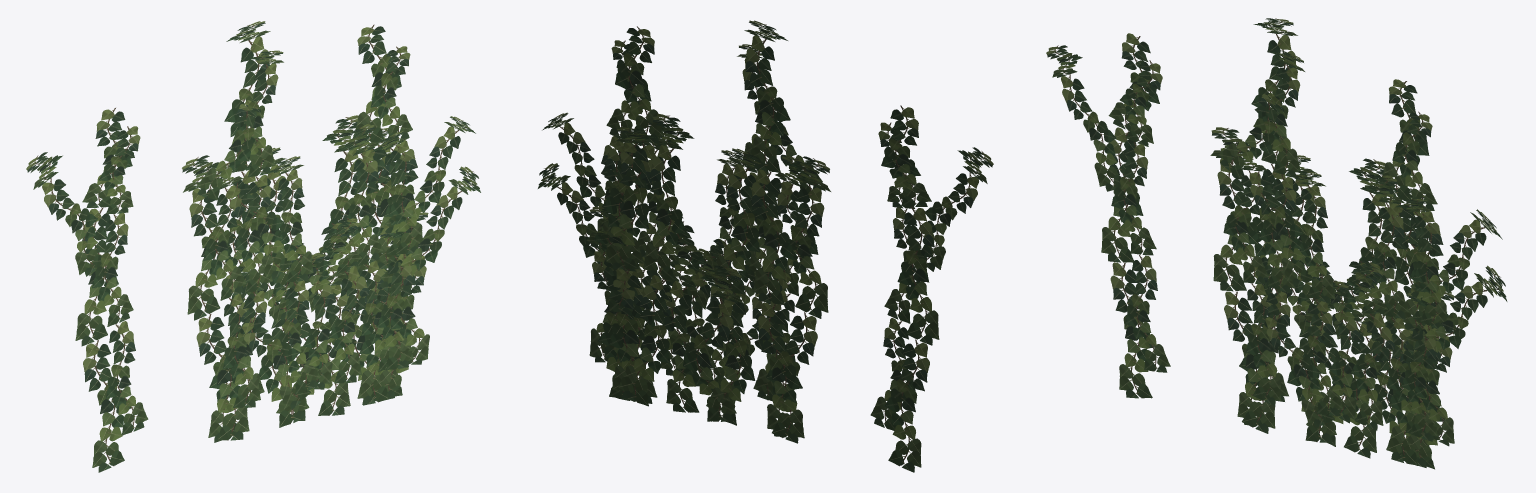
File: SM_Vine_Ivy_Wall.fbx
3 views of the same model, side by side, from view 1: azimuth 30°, elevation 25°; view 2: azimuth 150°, elevation 25°; view 3: azimuth 330°, elevation 25° (orthographic).
Parts seen in each view (by area): view 1: SM_Vine_Ivy_Wall; view 2: SM_Vine_Ivy_Wall; view 3: SM_Vine_Ivy_Wall.
Boxes of the visible parts, x1,y1,x2,y2 form: SM_Vine_Ivy_Wall: (26, 21, 480, 472); SM_Vine_Ivy_Wall: (538, 20, 993, 472); SM_Vine_Ivy_Wall: (1046, 18, 1507, 469).
Size of the model in its own units: 3.2 by 2.67 by 0.0771.
1 material, 1 textured.
